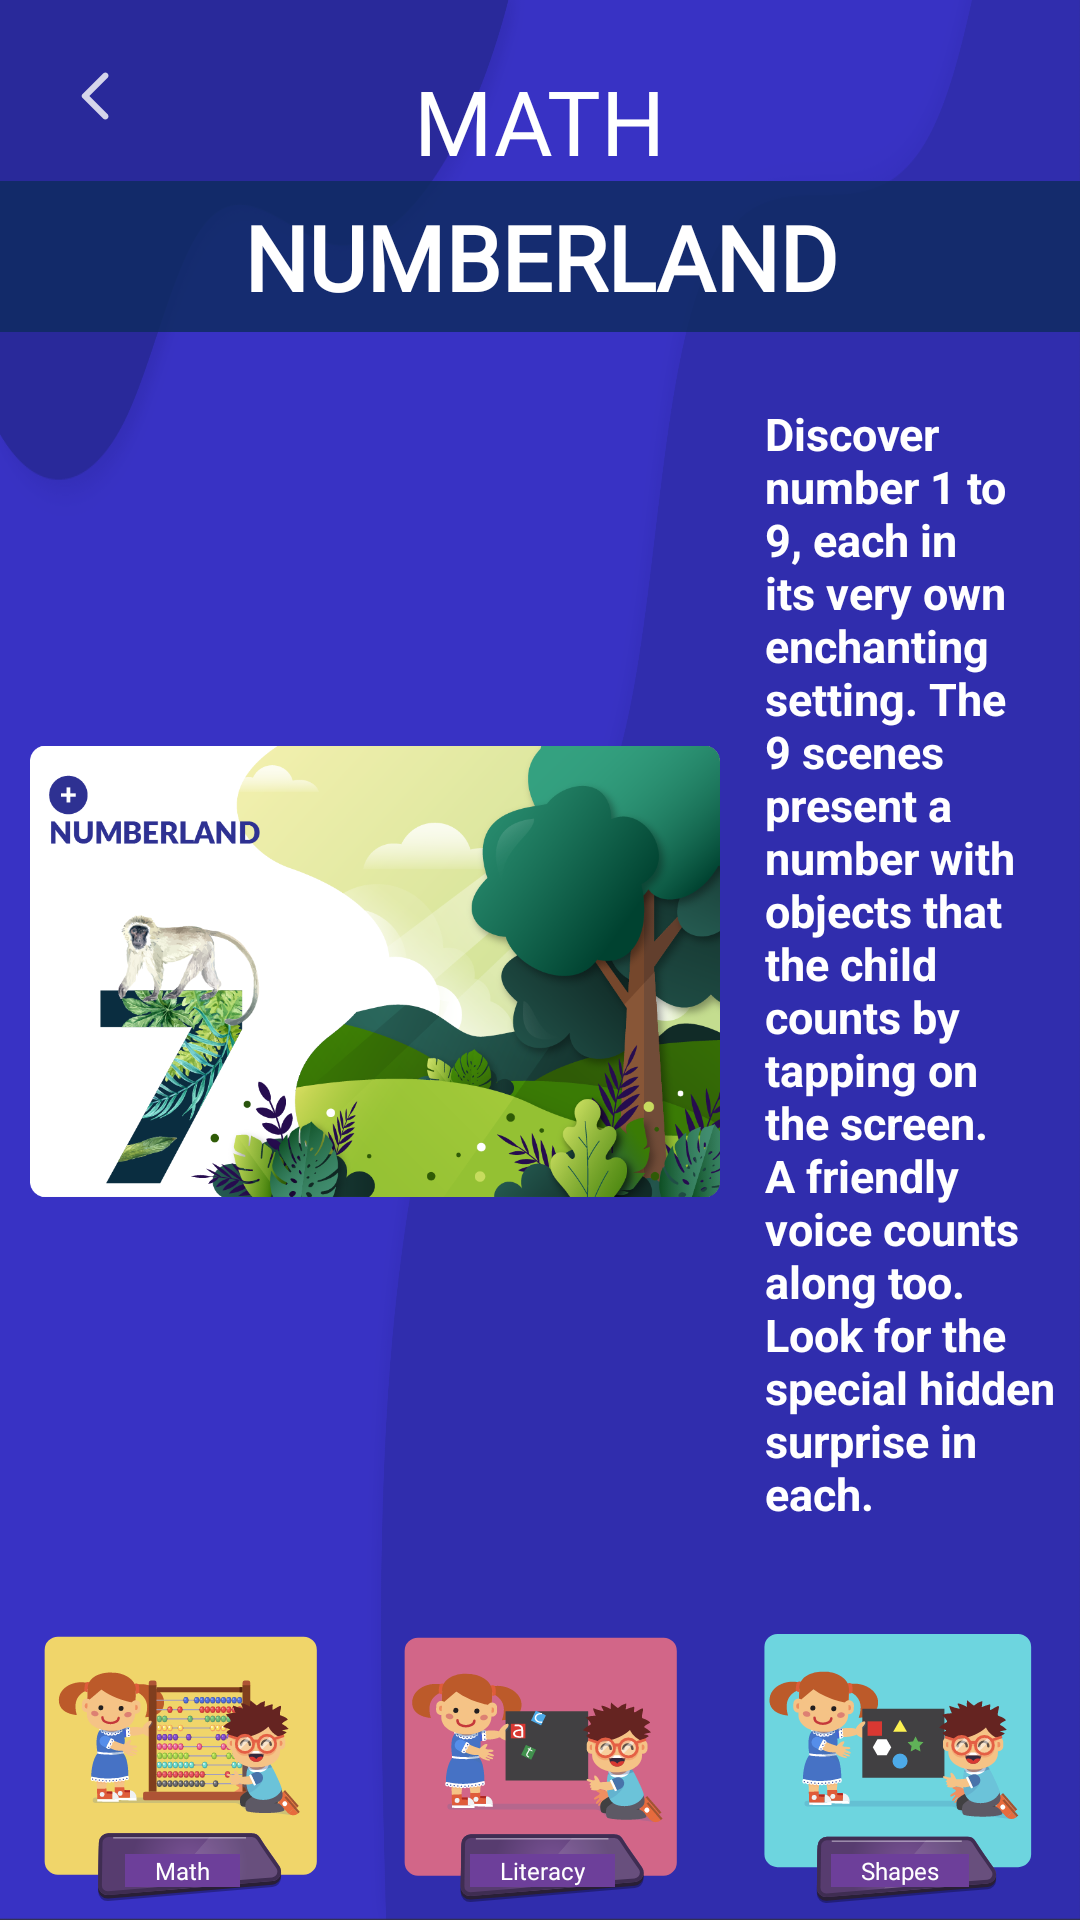

Icon click points for this 1080w x 1920h phone screenshot, format [x,y]:
back: [96,96]
